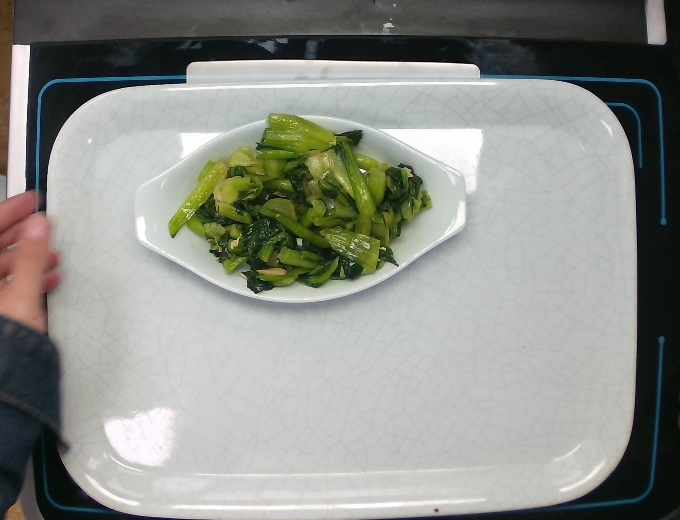JYsf-Yu_Pan: (102, 103, 474, 305)
